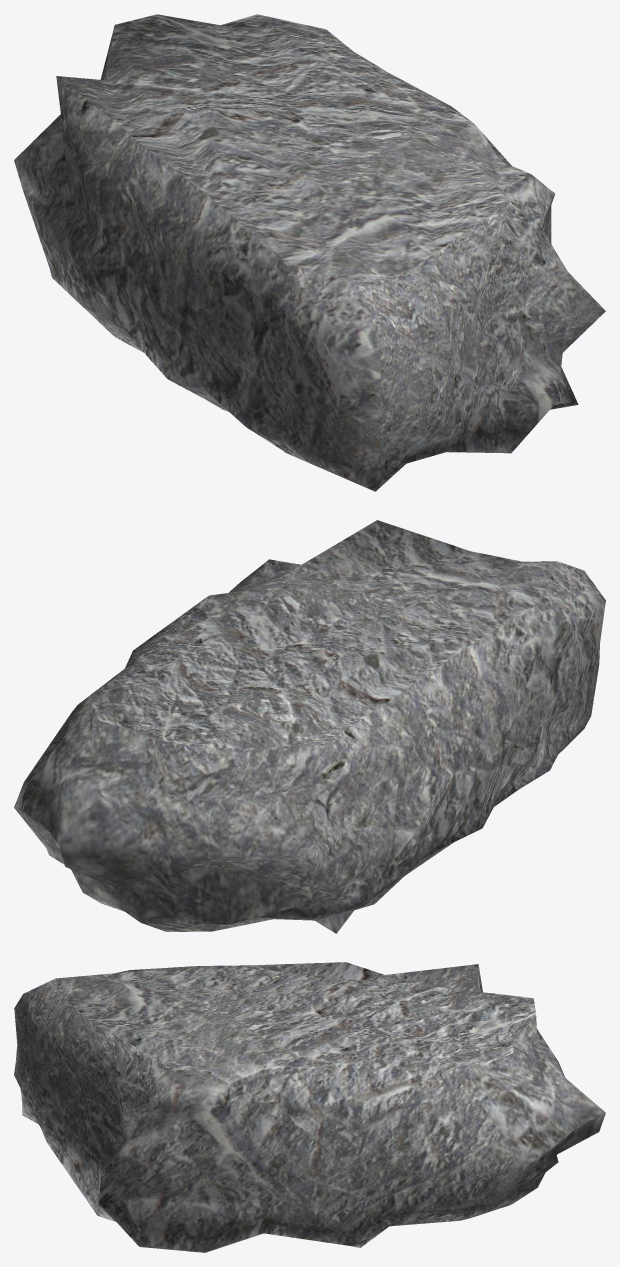
File: MossRock1.FBX
3 renders of one model, top to bottom at view 1: azimuth 30°, elevation 25°; view 2: azimuth 150°, elevation 25°; view 3: azimuth 270°, elevation 25°, orthographic. The views are drawn at different scales.
Parts seen in each view (by area): view 1: MossRock1; view 2: MossRock1; view 3: MossRock1.
Part boxes in pixels (x1,y1,x2,y2): MossRock1: [14, 14, 605, 491]; MossRock1: [14, 520, 605, 933]; MossRock1: [14, 962, 605, 1252].
Bounding box in the file's own units: 108 × 82.44 × 204.
